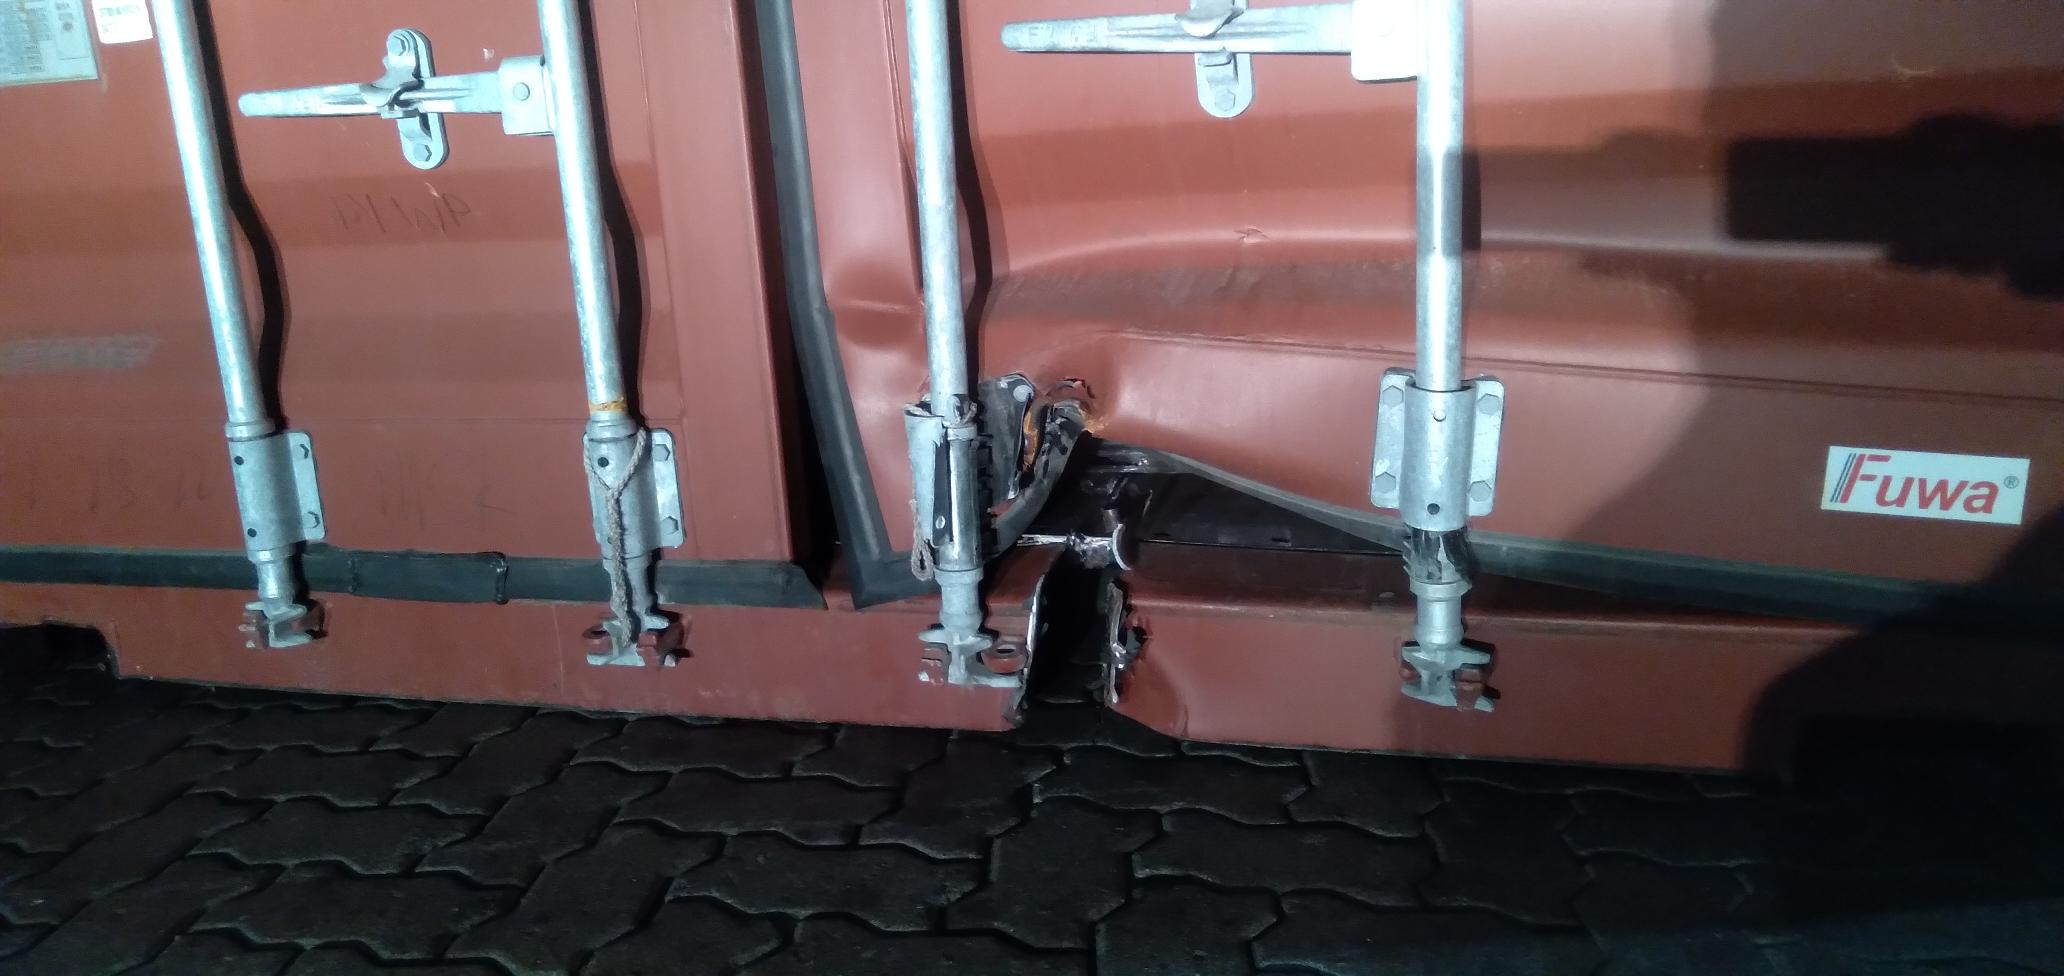bulged: (910, 325, 1506, 639)
